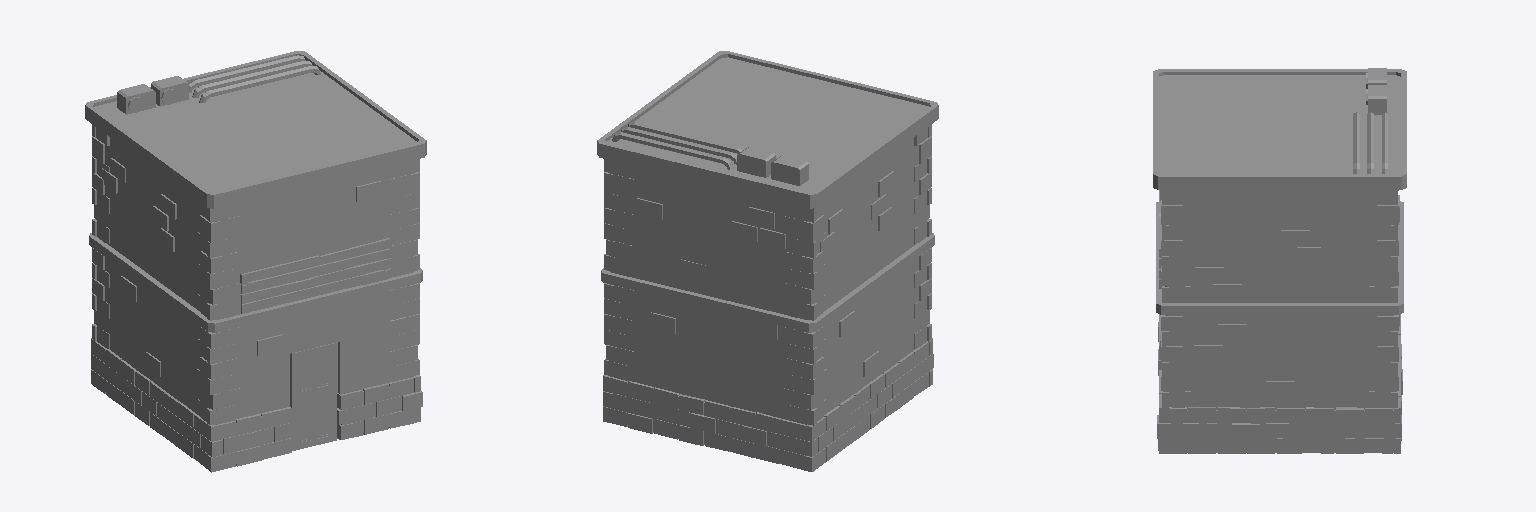
File: 2Story_Sign.obj
3 renders of one model, left to right at view 1: azimuth 30°, elevation 25°; view 2: azimuth 150°, elevation 25°; view 3: azimuth 270°, elevation 25°, orthographic.
Visible parts, largest first — view 1: 2Story_Sign_Cube.001; view 2: 2Story_Sign_Cube.001; view 3: 2Story_Sign_Cube.001.
Boxes of the visible parts, x1,y1,x2,y2 form: 2Story_Sign_Cube.001: [85, 51, 426, 472]; 2Story_Sign_Cube.001: [597, 51, 938, 471]; 2Story_Sign_Cube.001: [1153, 68, 1406, 453].
Bounding box in the file's own units: 2.15 × 2.76 × 2.15.